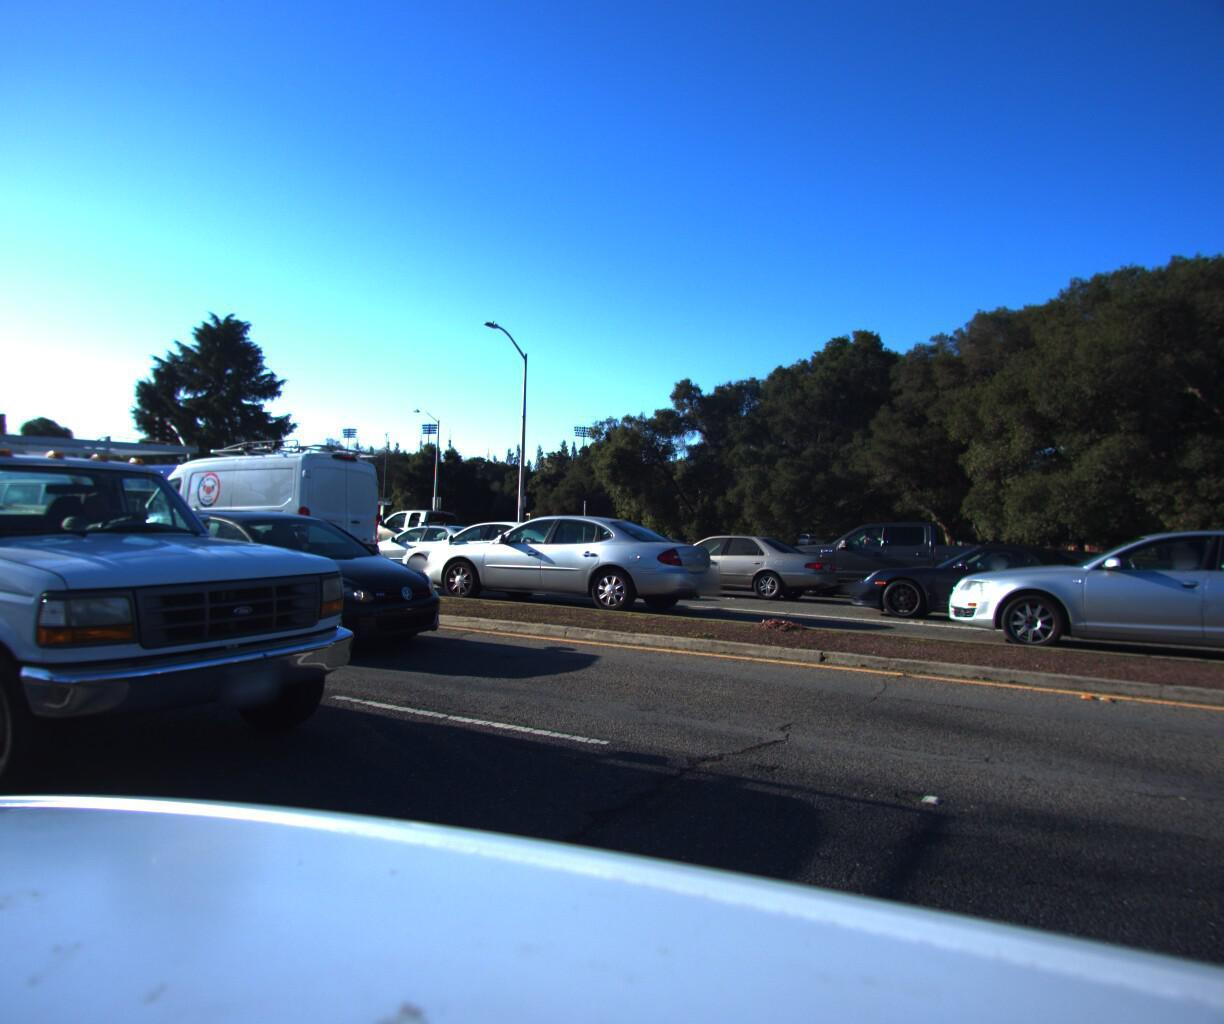bus: (0, 454, 333, 561)
car: (0, 371, 395, 854), (91, 497, 477, 667), (925, 515, 1224, 686), (99, 432, 383, 588), (391, 502, 726, 615), (829, 526, 1154, 637), (766, 510, 1037, 608), (382, 508, 606, 592), (614, 525, 842, 602), (950, 536, 1148, 608), (332, 499, 508, 571), (0, 473, 126, 565), (542, 524, 724, 587), (338, 513, 516, 577), (1133, 524, 1224, 638)
